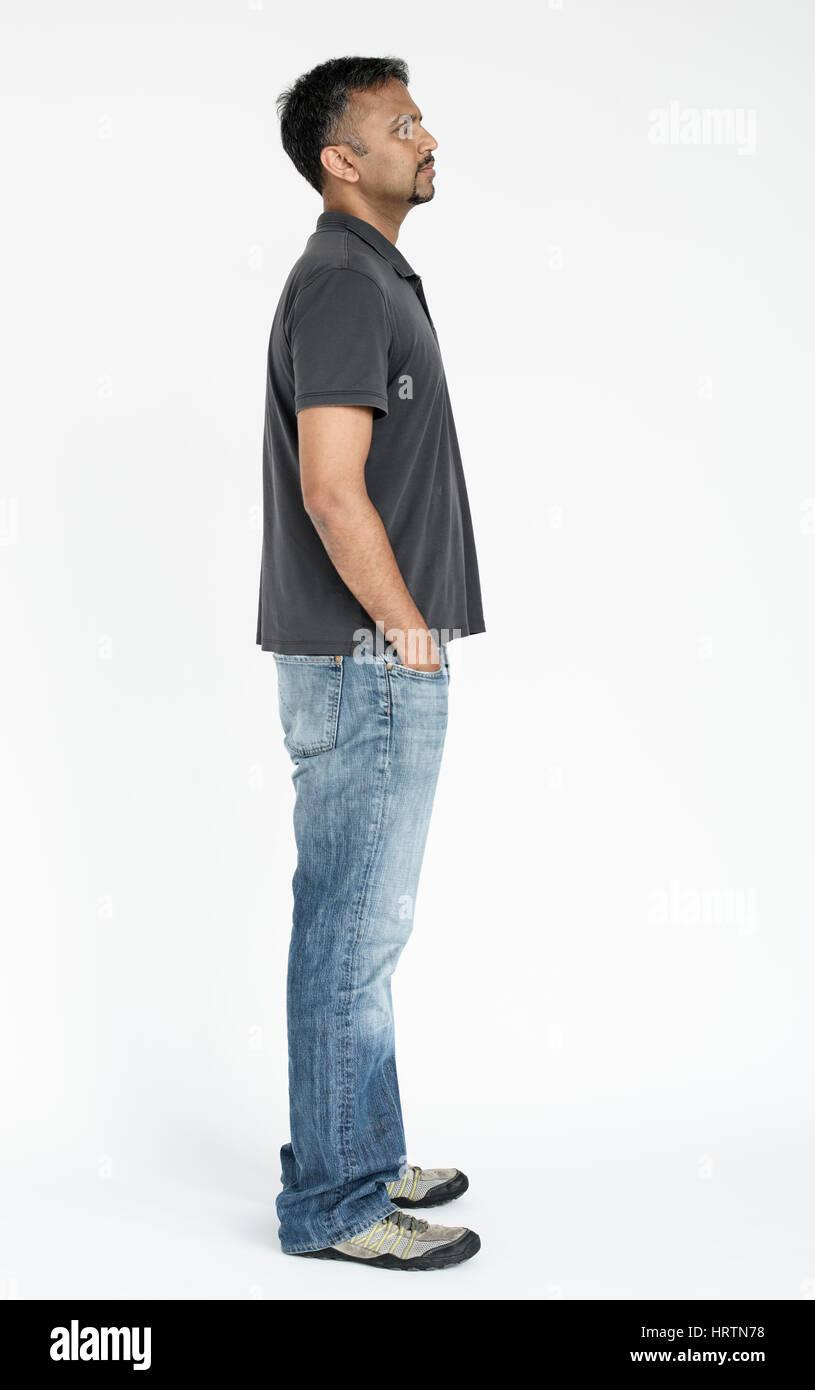Human: (212, 57, 547, 1356)
